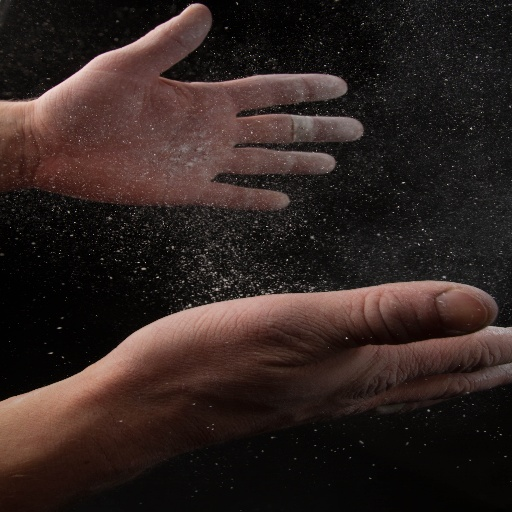hand: (78, 278, 511, 463), (20, 1, 367, 209)
